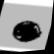correct: (6, 15, 47, 49)
